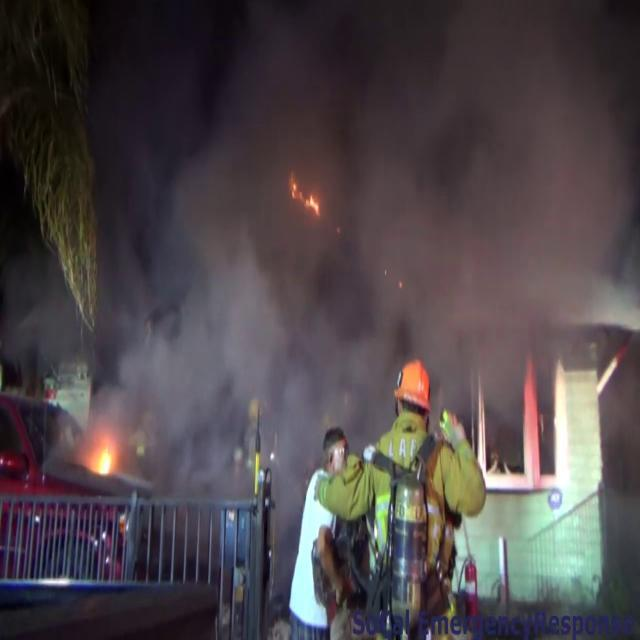Fire: (88, 441, 120, 478)
Smoke: (92, 0, 636, 418)
